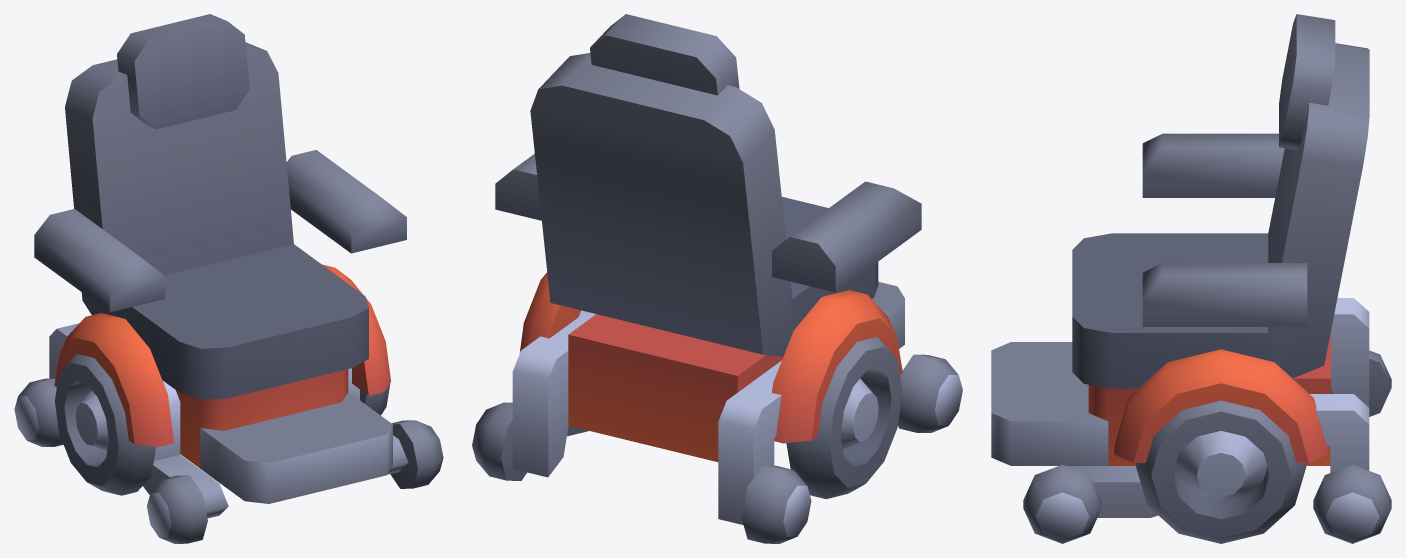
The model's file is wheelchair-power-deluxe.fbx.
3 renders of one model, left to right at view 1: azimuth 30°, elevation 25°; view 2: azimuth 150°, elevation 25°; view 3: azimuth 270°, elevation 25°, orthographic. The views are drawn at different scales.
Visible parts, largest first — view 1: wheelchair-power-deluxe; view 2: wheelchair-power-deluxe; view 3: wheelchair-power-deluxe.
Part boxes in pixels (x1=…): wheelchair-power-deluxe: x1=14, y1=14, x2=443, y2=543; wheelchair-power-deluxe: x1=472, y1=14, x2=962, y2=543; wheelchair-power-deluxe: x1=991, y1=14, x2=1391, y2=543.
Bounding box in the file's own units: 48 × 62.53 × 51.09.
